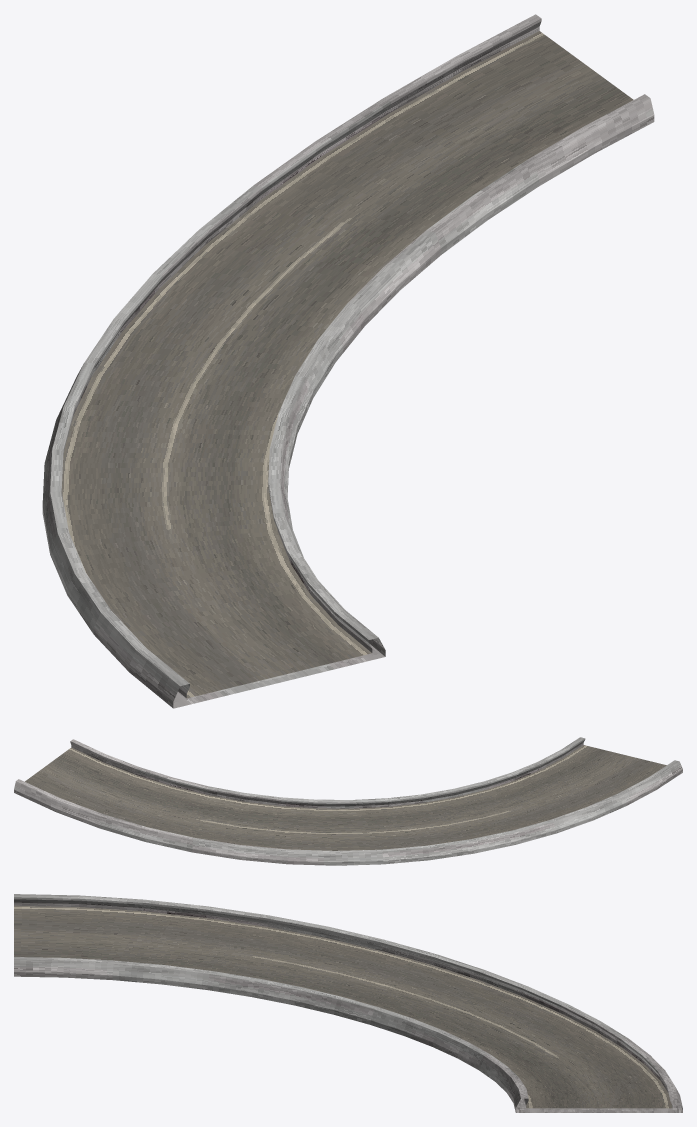
File: road-Turn-Flat-BiSlopeUp-Up2-Right-Size4.glb
3 views of the same model, one above another, from view 1: azimuth 30°, elevation 25°; view 2: azimuth 150°, elevation 25°; view 3: azimuth 270°, elevation 25° (orthographic). The views are drawn at different scales.
Parts seen in each view (by area): view 1: road-Turn-Flat-BiSlopeUp-Up2-Right-Size4; view 2: road-Turn-Flat-BiSlopeUp-Up2-Right-Size4; view 3: road-Turn-Flat-BiSlopeUp-Up2-Right-Size4.
Boxes of the visible parts, <box> form: road-Turn-Flat-BiSlopeUp-Up2-Right-Size4: <box>42,14,654,708</box>; road-Turn-Flat-BiSlopeUp-Up2-Right-Size4: <box>14,737,682,865</box>; road-Turn-Flat-BiSlopeUp-Up2-Right-Size4: <box>14,894,682,1112</box>.
Size of the model in its own units: 4 by 0.595 by 4.
Materials: 2 (2 with a texture image).
